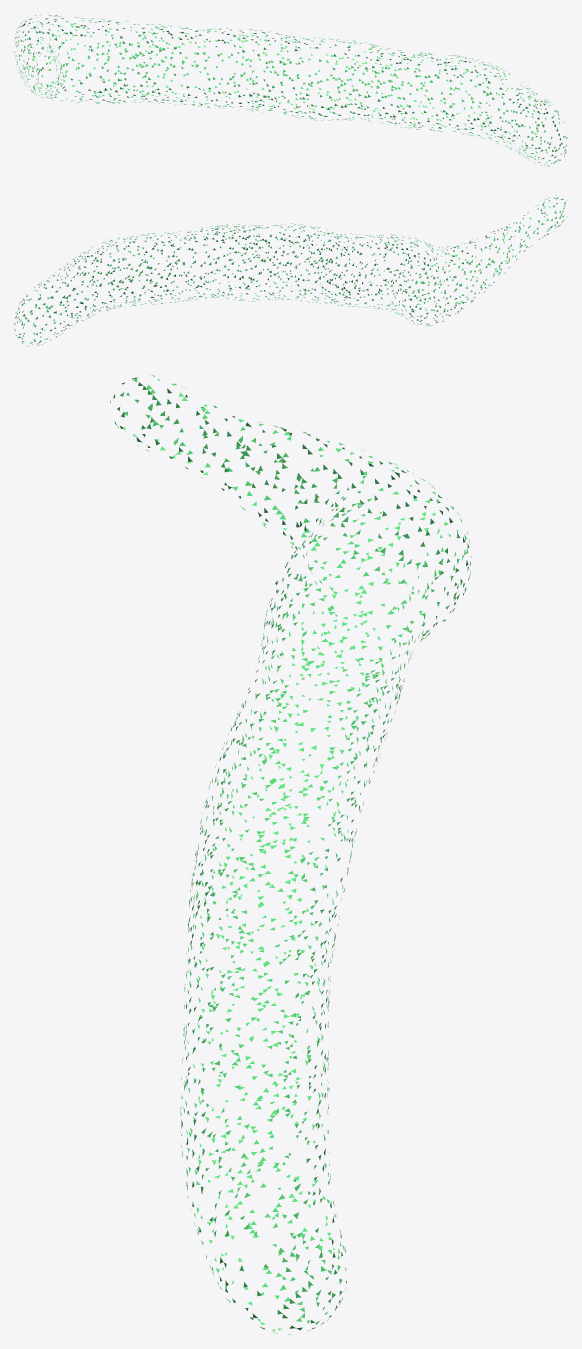
Rendered from morph_020.glb.
3 renders of one model, top to bottom at view 1: azimuth 30°, elevation 25°; view 2: azimuth 150°, elevation 25°; view 3: azimuth 270°, elevation 25°, orthographic. The views are drawn at different scales.
Bounding box in the file's own units: 136 × 61.88 × 42.02.
